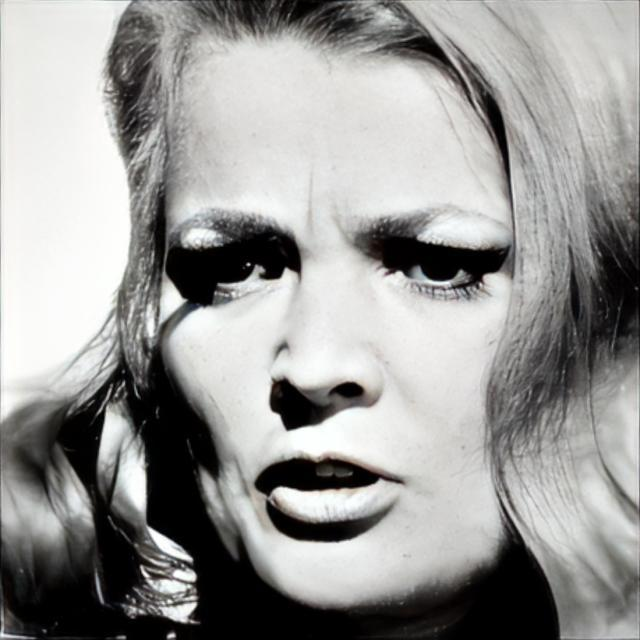anger: (146, 47, 560, 612)
